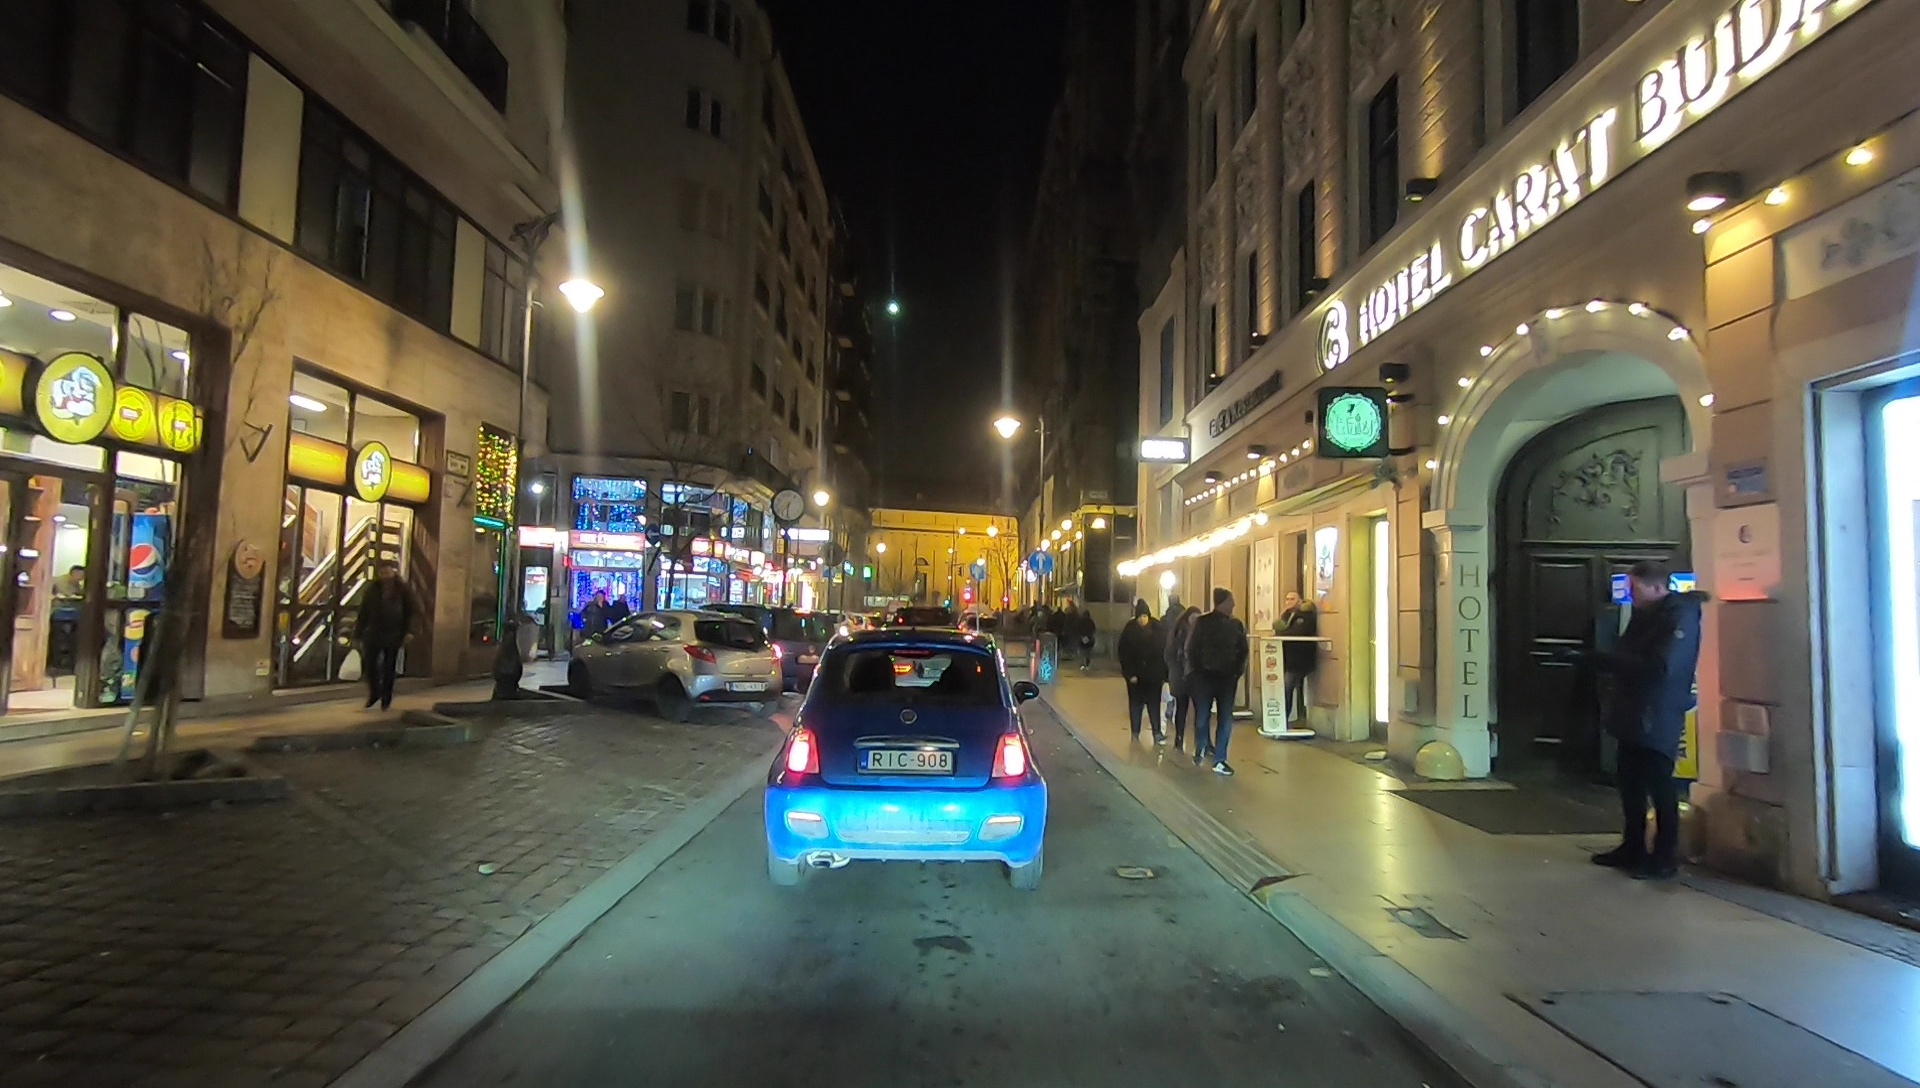person: (1597, 565, 1688, 889), (1194, 589, 1241, 779), (357, 559, 412, 712), (1154, 597, 1198, 750), (1118, 600, 1162, 751), (1274, 588, 1314, 729), (1172, 599, 1205, 756), (582, 589, 608, 669), (610, 595, 631, 670), (1060, 599, 1081, 668), (1080, 610, 1095, 668)
